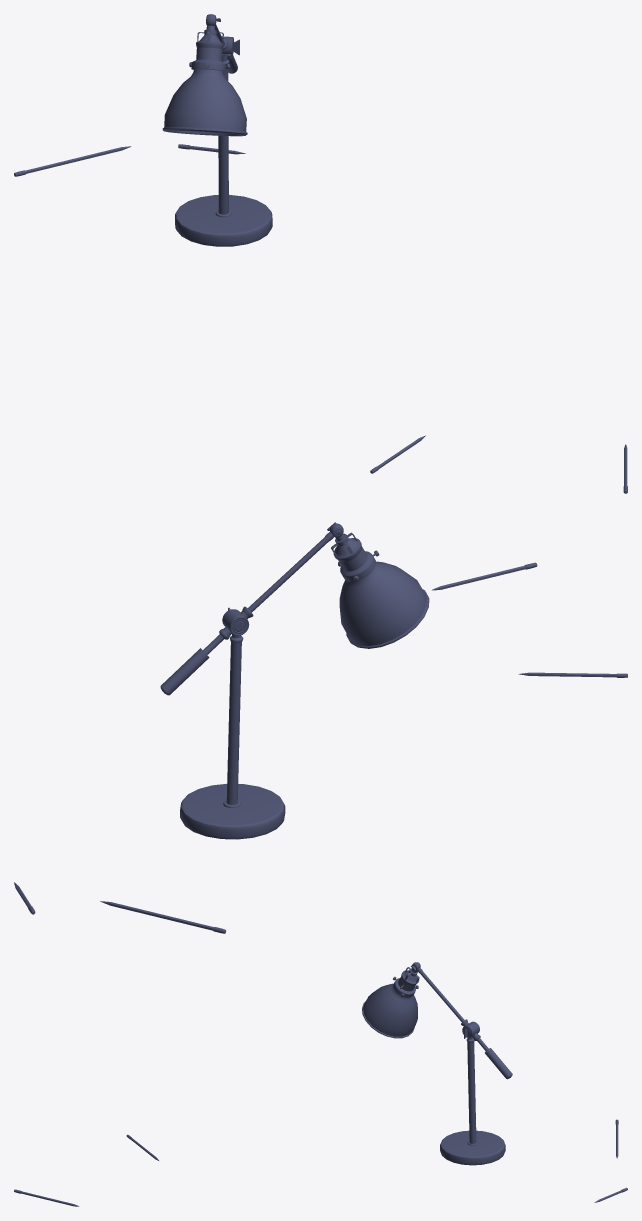
Rendered from DeskItems_high.fbx.
The picture shows the model from 3 angles, top to bottom: view 1: azimuth 30°, elevation 25°; view 2: azimuth 150°, elevation 25°; view 3: azimuth 270°, elevation 25°; orthographic projection. The views are drawn at different scales.
Parts seen in each view (by area): view 1: Lamp_high; view 2: Lamp_high; view 3: Lamp_high.
Boxes of the visible parts, x1,y1,x2,y2 form: Lamp_high: (162,14,272,246); Lamp_high: (160,522,429,839); Lamp_high: (362,962,512,1165).
Bounding box in the file's own units: 0.4864 × 0.5802 × 1.68.
